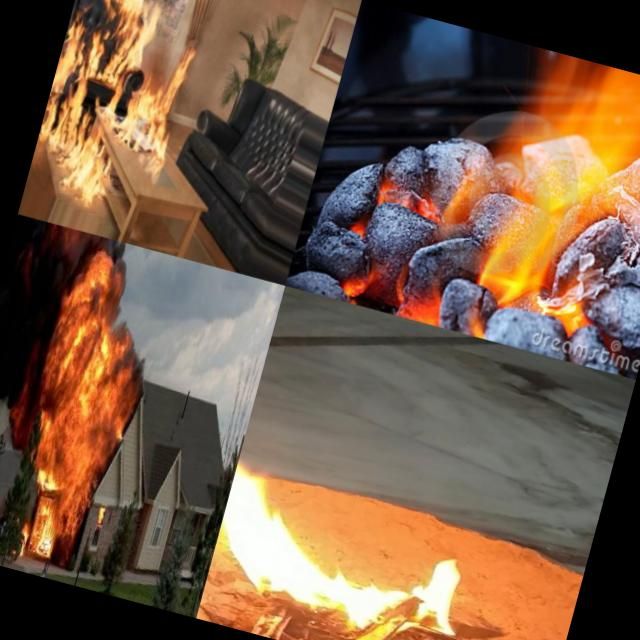fire: (331, 12, 640, 374), (199, 432, 507, 640), (0, 247, 168, 571), (22, 0, 220, 228)
smoke: (0, 213, 80, 440)
